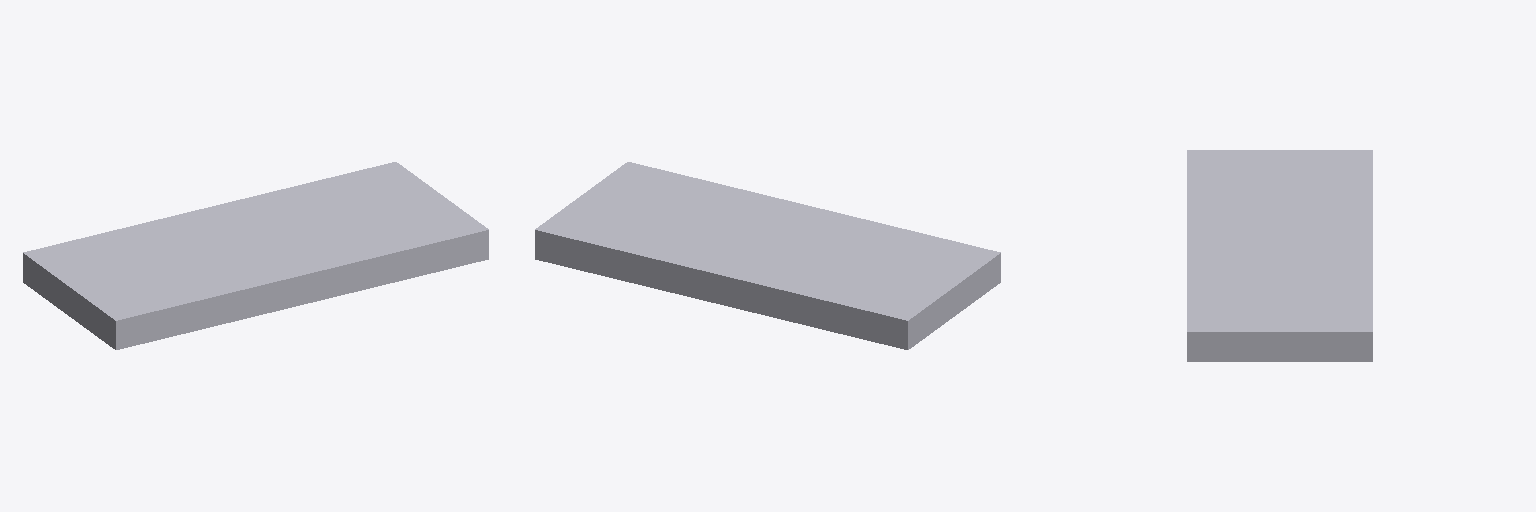
The model's file is Hotel.obj.
The picture shows the model from 3 angles: view 1: azimuth 30°, elevation 25°; view 2: azimuth 150°, elevation 25°; view 3: azimuth 270°, elevation 25°; orthographic projection.
Visible parts, largest first — view 1: Floorpannel1, Wall14, Wall9, Floorpannel2; view 2: Floorpannel1, Wall24, Wall9, Floorpannel2; view 3: Floorpannel1, Wall1.
Part boxes in pixels (left/top/right/bottom): Floorpannel1: left=23, top=162, right=488, bottom=322; Wall14: left=118, top=233, right=486, bottom=347; Wall9: left=23, top=255, right=117, bottom=347; Floorpannel2: left=23, top=257, right=488, bottom=349; Floorpannel1: left=535, top=162, right=1000, bottom=322; Wall24: left=537, top=233, right=905, bottom=347; Wall9: left=906, top=255, right=1000, bottom=347; Floorpannel2: left=535, top=257, right=1000, bottom=349; Floorpannel1: left=1187, top=150, right=1372, bottom=333; Wall1: left=1187, top=334, right=1372, bottom=359.
Bounding box in the file's own units: 185 × 14 × 80.